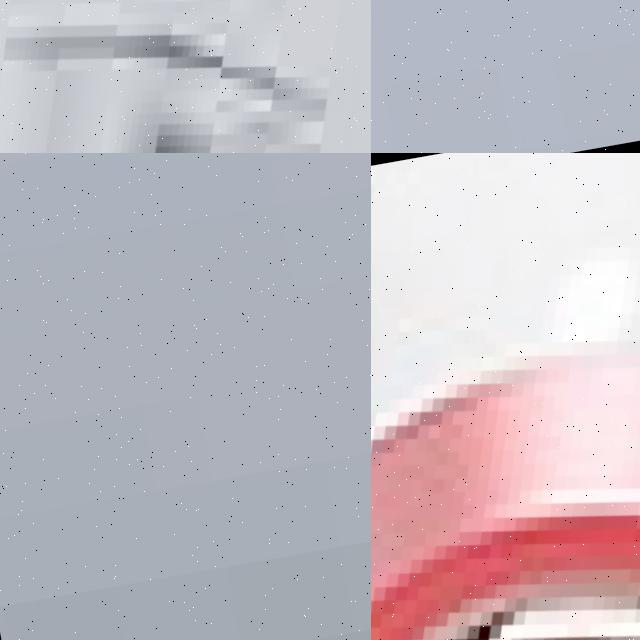drone: (371, 153, 640, 640), (0, 0, 371, 153)
